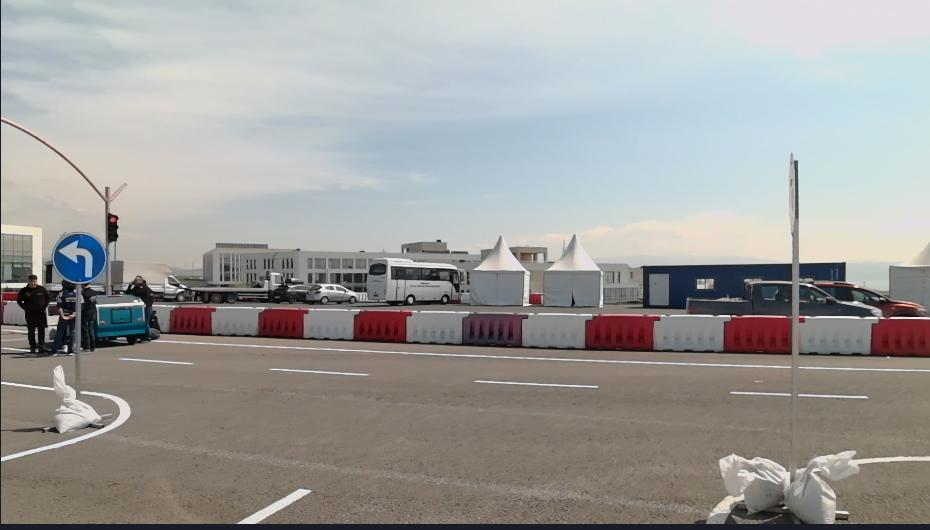nesne: (0, 328, 930, 529), (233, 377, 928, 526), (0, 328, 475, 515), (154, 304, 790, 355), (149, 336, 929, 372), (0, 386, 130, 461), (685, 281, 859, 313), (783, 446, 859, 513), (798, 316, 928, 354), (366, 257, 463, 305), (719, 453, 788, 512), (50, 361, 104, 431), (109, 260, 188, 303), (192, 271, 289, 304), (237, 486, 312, 527), (52, 231, 107, 285), (797, 317, 873, 355), (724, 314, 791, 355), (650, 314, 725, 350), (16, 274, 48, 353), (520, 312, 586, 350), (124, 272, 160, 341), (583, 314, 651, 350), (870, 316, 928, 355), (462, 310, 521, 346), (95, 302, 144, 344), (405, 310, 463, 345), (50, 277, 76, 355), (354, 309, 405, 342), (302, 308, 353, 339), (264, 364, 373, 378), (258, 308, 305, 339), (213, 306, 260, 336), (706, 490, 746, 525), (168, 306, 214, 334), (475, 378, 601, 388), (307, 283, 360, 303), (82, 283, 96, 350), (118, 355, 196, 366), (854, 455, 928, 466), (277, 281, 311, 303), (796, 392, 869, 400), (2, 378, 52, 389), (724, 388, 791, 395), (154, 304, 170, 333), (106, 212, 120, 241), (0, 344, 31, 351)
